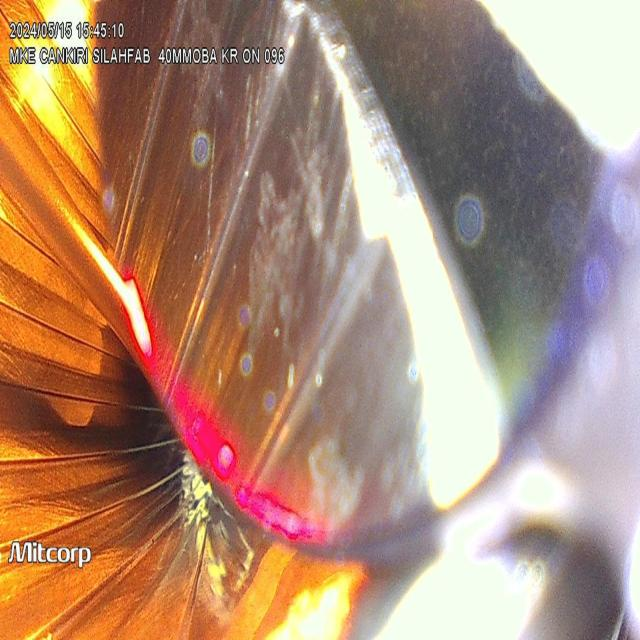hata_9.3: (228, 99, 339, 370), (295, 398, 381, 553), (159, 0, 252, 140)
